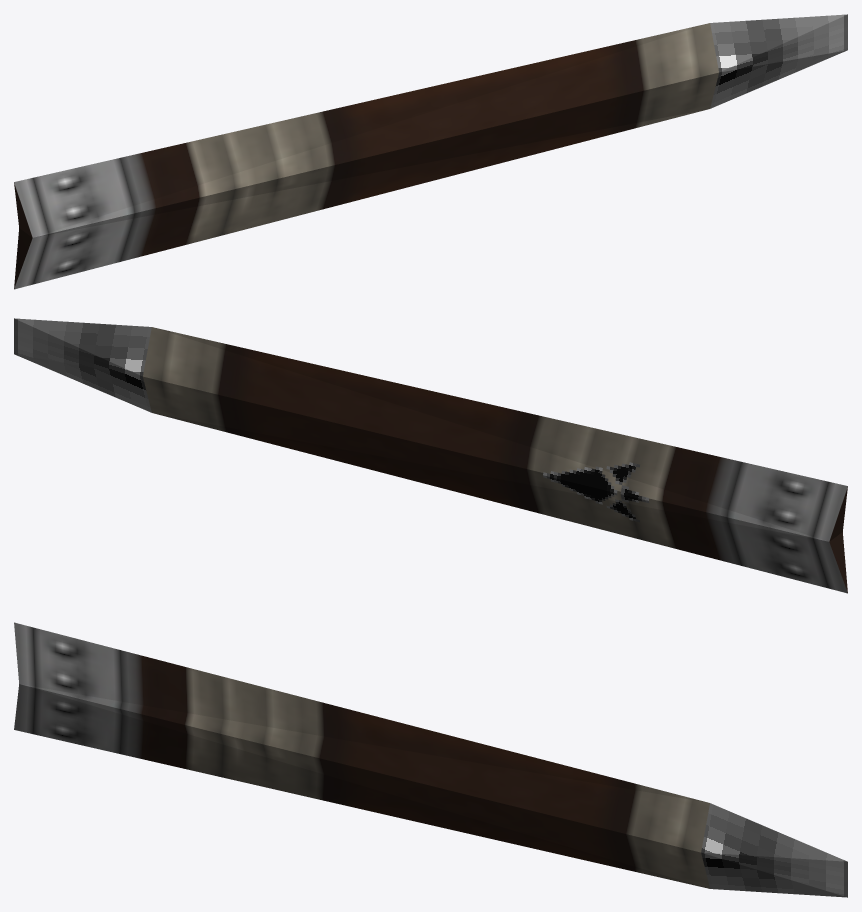
Rendered from Sheath.obj.
3 views of the same model, one above another, from view 1: azimuth 30°, elevation 25°; view 2: azimuth 150°, elevation 25°; view 3: azimuth 330°, elevation 25° (orthographic).
Parts seen in each view (by area): view 1: Sheath_3_Sheathed_Master_Sword; view 2: Sheath_3_Sheathed_Master_Sword; view 3: Sheath_3_Sheathed_Master_Sword.
Boxes of the visible parts, x1,y1,x2,y2 form: Sheath_3_Sheathed_Master_Sword: (14, 14, 847, 289); Sheath_3_Sheathed_Master_Sword: (14, 318, 847, 593); Sheath_3_Sheathed_Master_Sword: (14, 622, 847, 897).
Bounding box in the file's own units: 5332 × 656 × 211.
3 materials, 3 textured.
